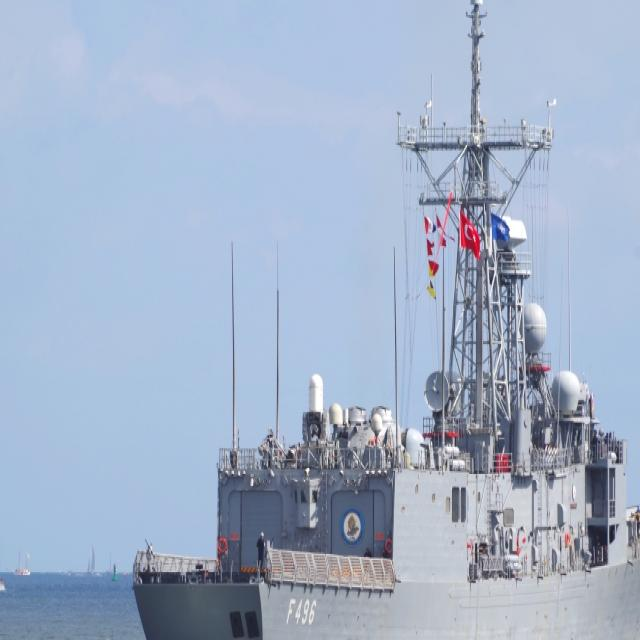Fragata: (127, 1, 640, 640)
